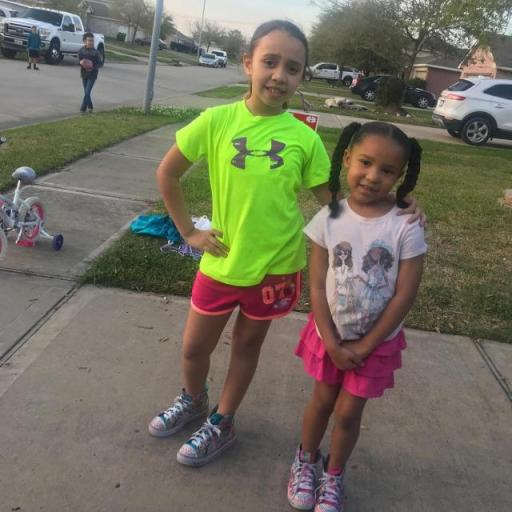Under Armour: (228, 134, 287, 172)
